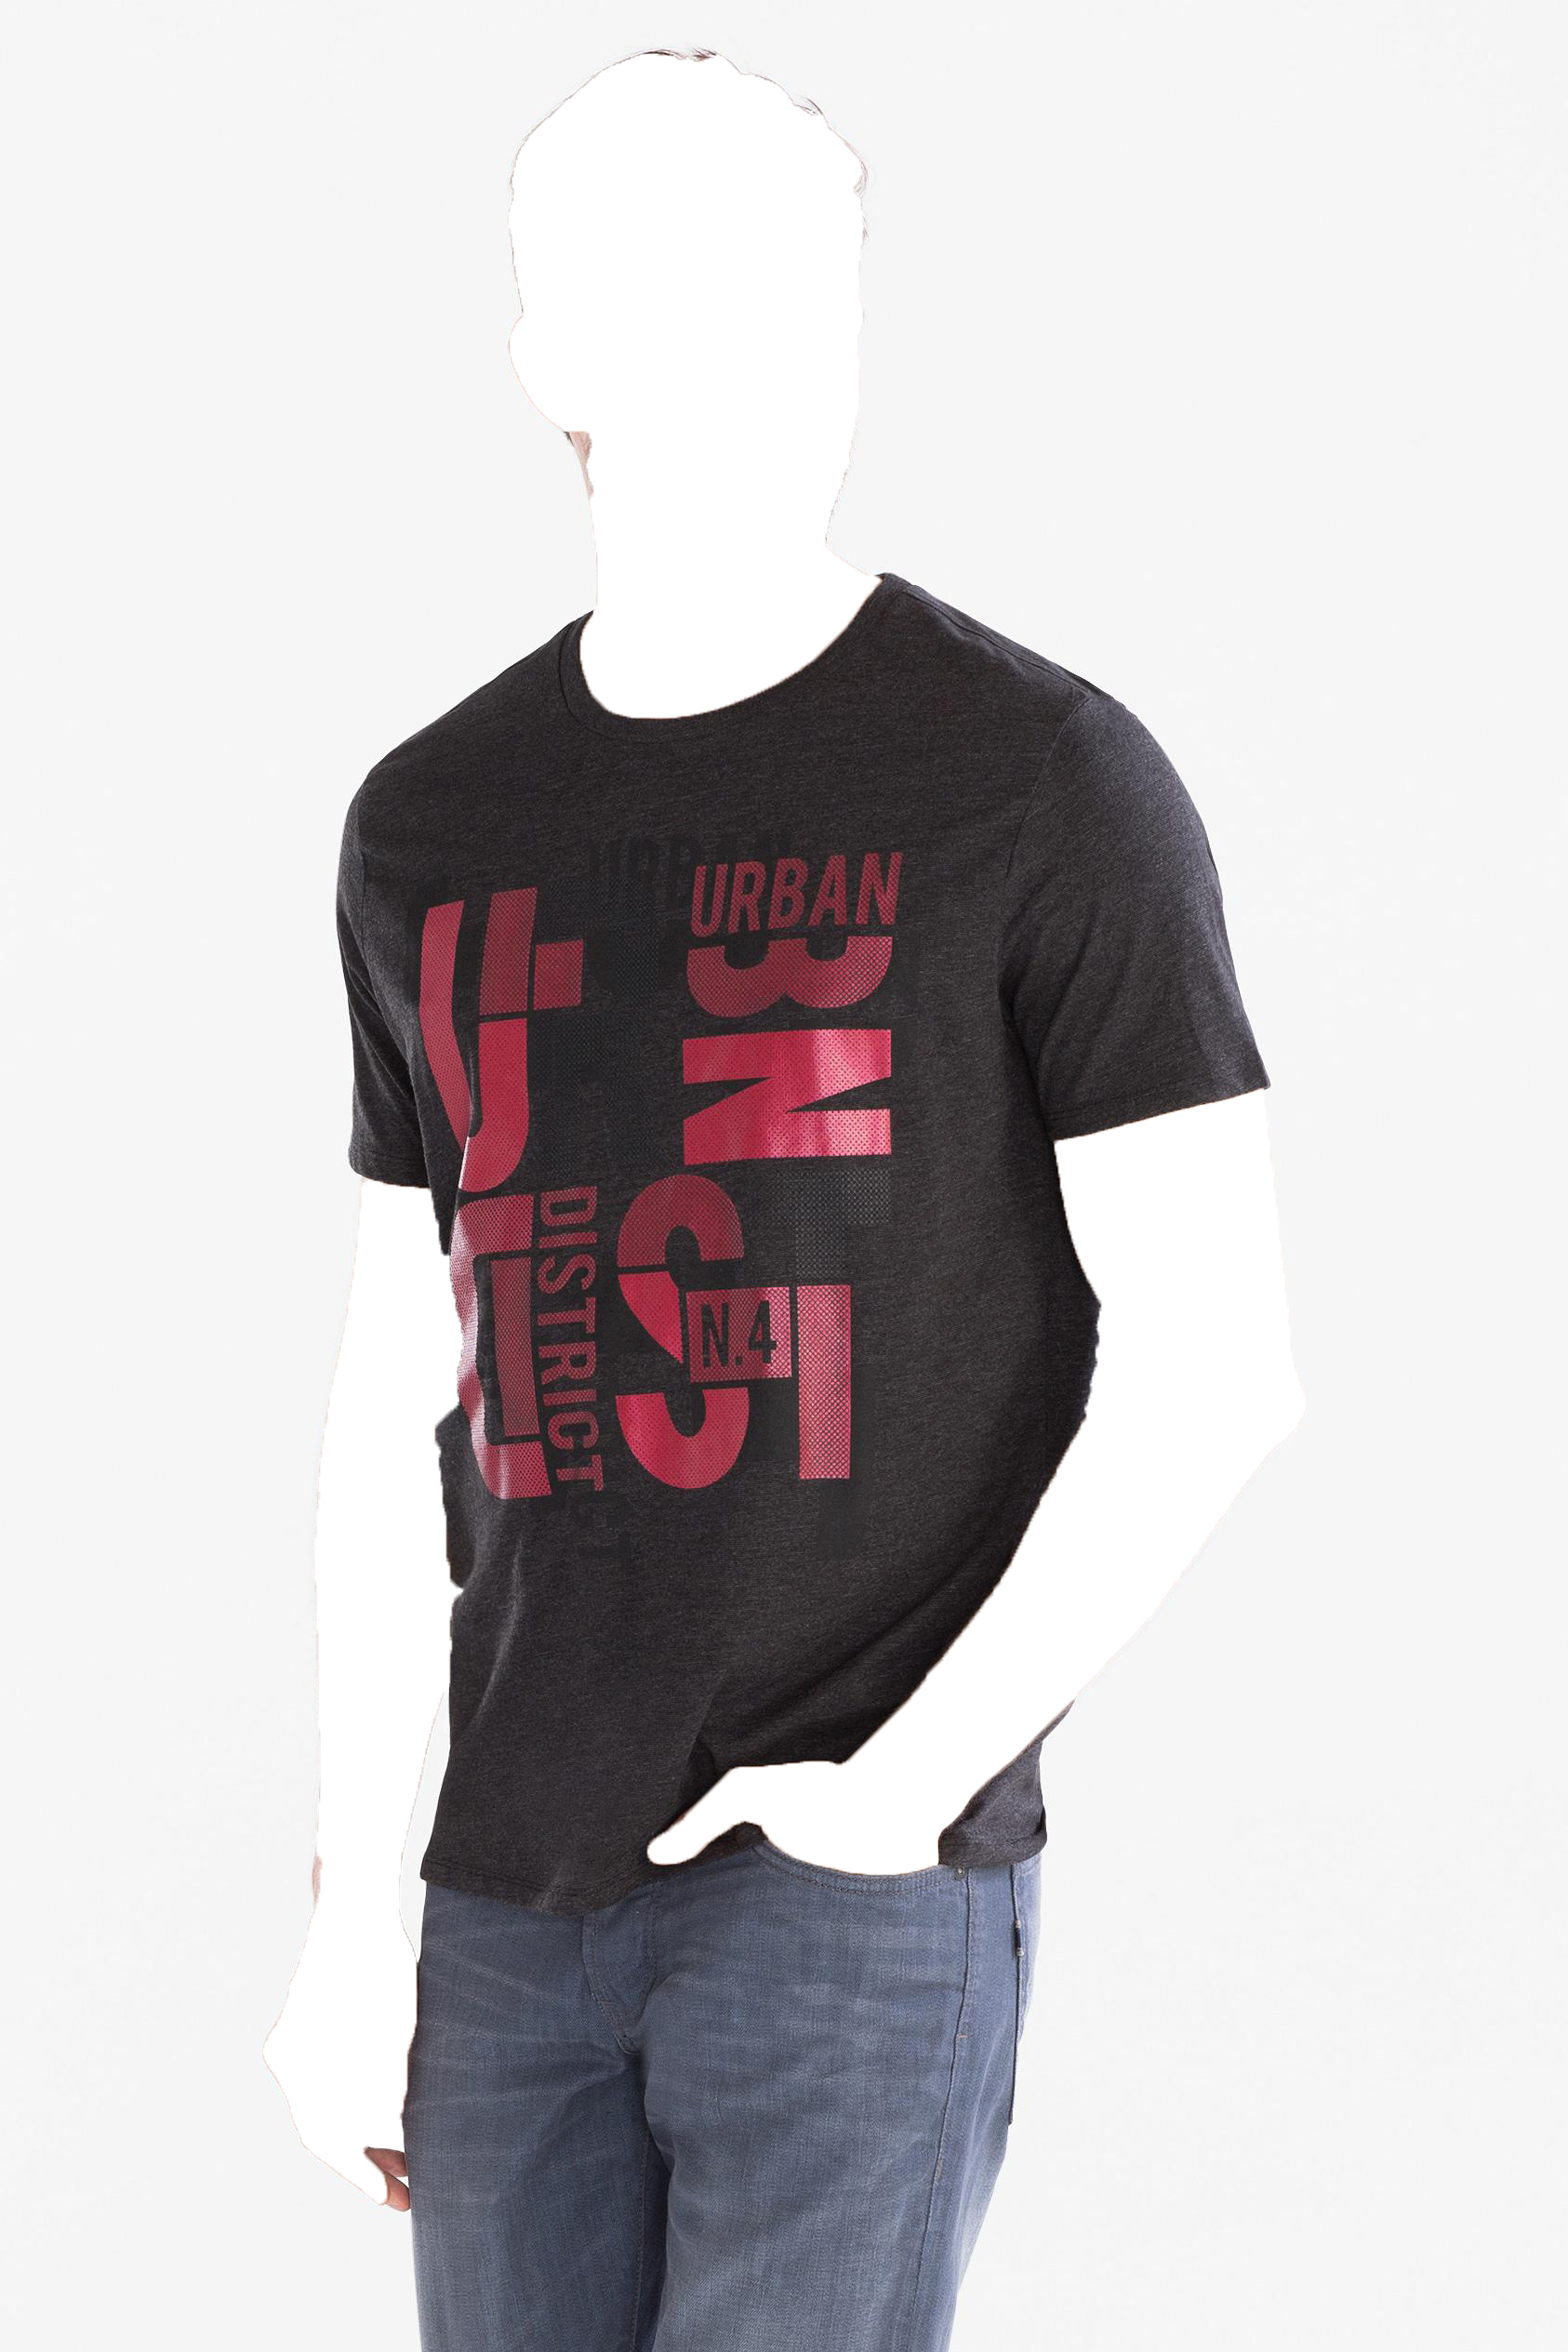teeshirt: (262, 571, 1297, 1881)
